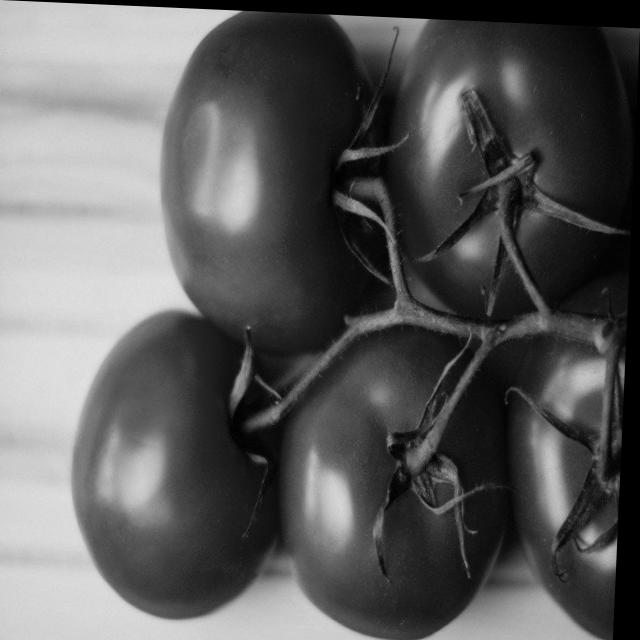kirmizi: (72, 3, 640, 640)
